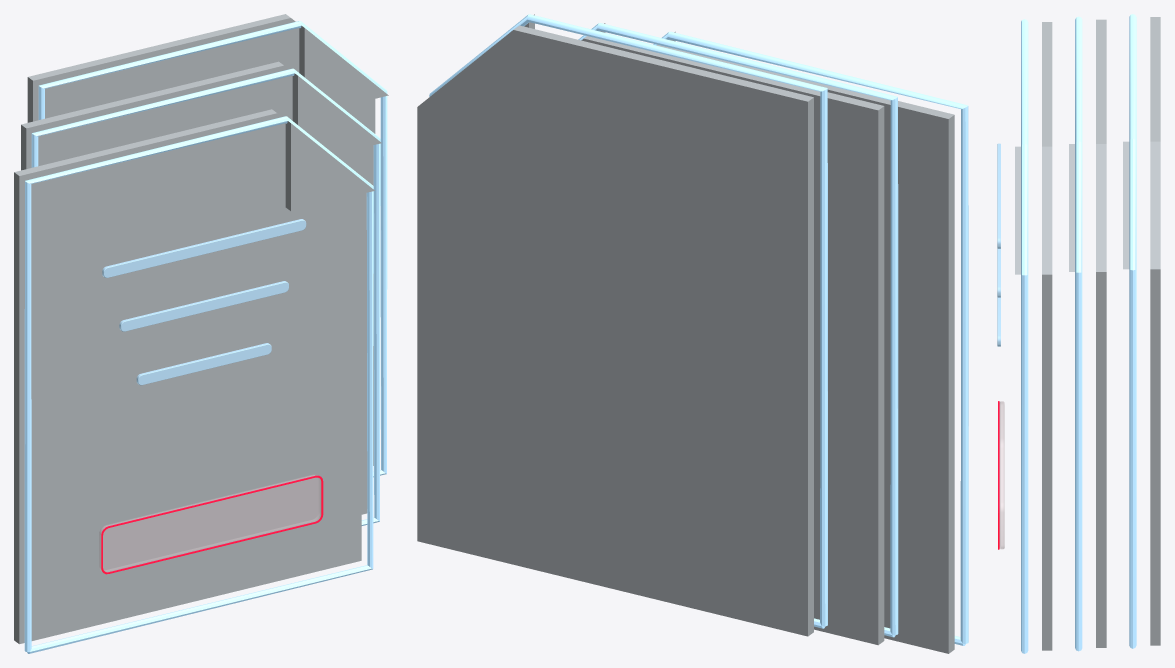
The model's file is 16-document.glb.
3 views of the same model, side by side, from view 1: azimuth 30°, elevation 25°; view 2: azimuth 150°, elevation 25°; view 3: azimuth 270°, elevation 25° (orthographic). The views are drawn at different scales.
Parts seen in each view (by area): view 1: BC thin clear technical glass, BC cool glass edge, BC subtle ruby technical glass, BC etched pale glass, BC ruby signal edge; view 2: BC thin clear technical glass, BC cool glass edge; view 3: BC thin clear technical glass, BC cool glass edge, BC subtle ruby technical glass, BC etched pale glass, BC ruby signal edge.
Boxes of the visible parts, box(x1,y1,x2,y2) form: BC thin clear technical glass: box(14, 14, 388, 644); BC cool glass edge: box(24, 21, 387, 653); BC subtle ruby technical glass: box(99, 474, 321, 572); BC etched pale glass: box(102, 219, 306, 385); BC ruby signal edge: box(101, 475, 323, 574); BC thin clear technical glass: box(417, 14, 954, 653); BC cool glass edge: box(429, 14, 968, 645); BC thin clear technical glass: box(1015, 17, 1160, 650); BC cool glass edge: box(1021, 14, 1136, 653); BC subtle ruby technical glass: box(999, 401, 1004, 549); BC etched pale glass: box(997, 143, 1000, 346); BC ruby signal edge: box(998, 401, 999, 549).
Size of the model in its own units: 1.58 by 1.86 by 0.5435.
